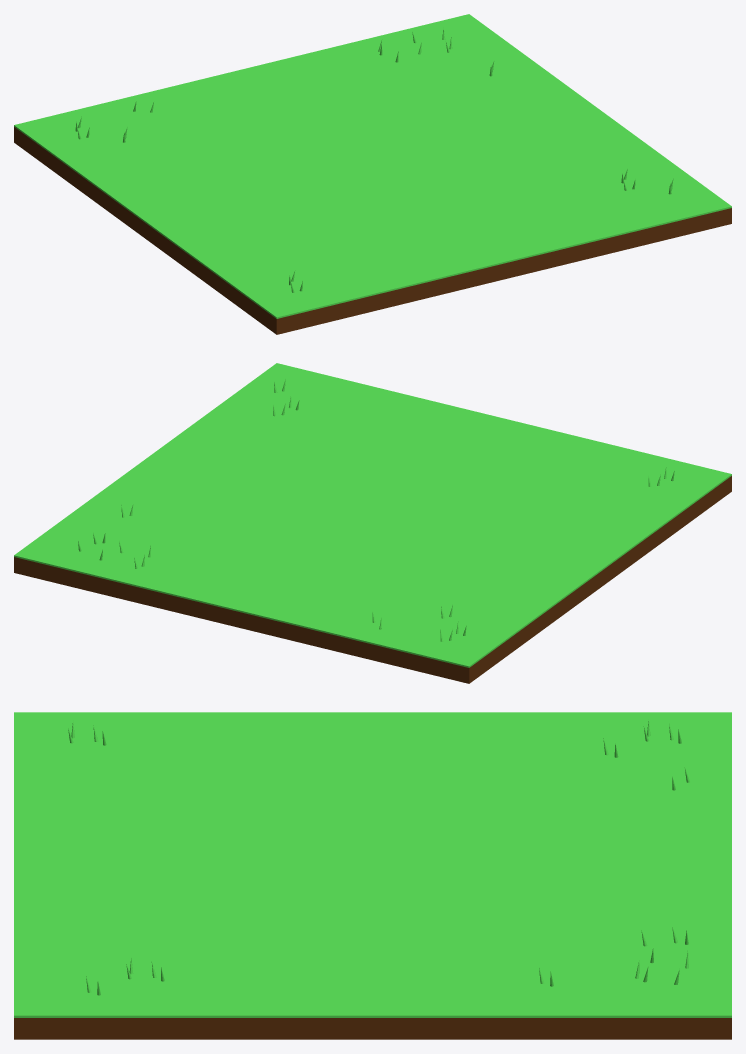
The model's file is GrassWGrassPlane.fbx.
3 renders of one model, top to bottom at view 1: azimuth 30°, elevation 25°; view 2: azimuth 150°, elevation 25°; view 3: azimuth 270°, elevation 25°, orthographic. The views are drawn at different scales.
Parts seen in each view (by area): view 1: GroundGrass; view 2: GroundGrass; view 3: GroundGrass.
Part boxes in pixels (bbox=[...]): GroundGrass: bbox=[14, 14, 731, 334]; GroundGrass: bbox=[14, 363, 731, 683]; GroundGrass: bbox=[14, 712, 731, 1039].
Size of the model in its own units: 600 by 37.85 by 600.
